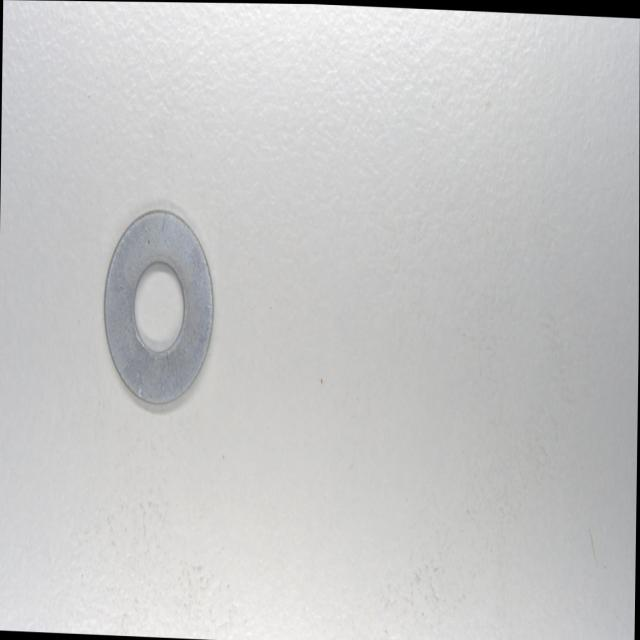washer: (102, 208, 217, 414)
